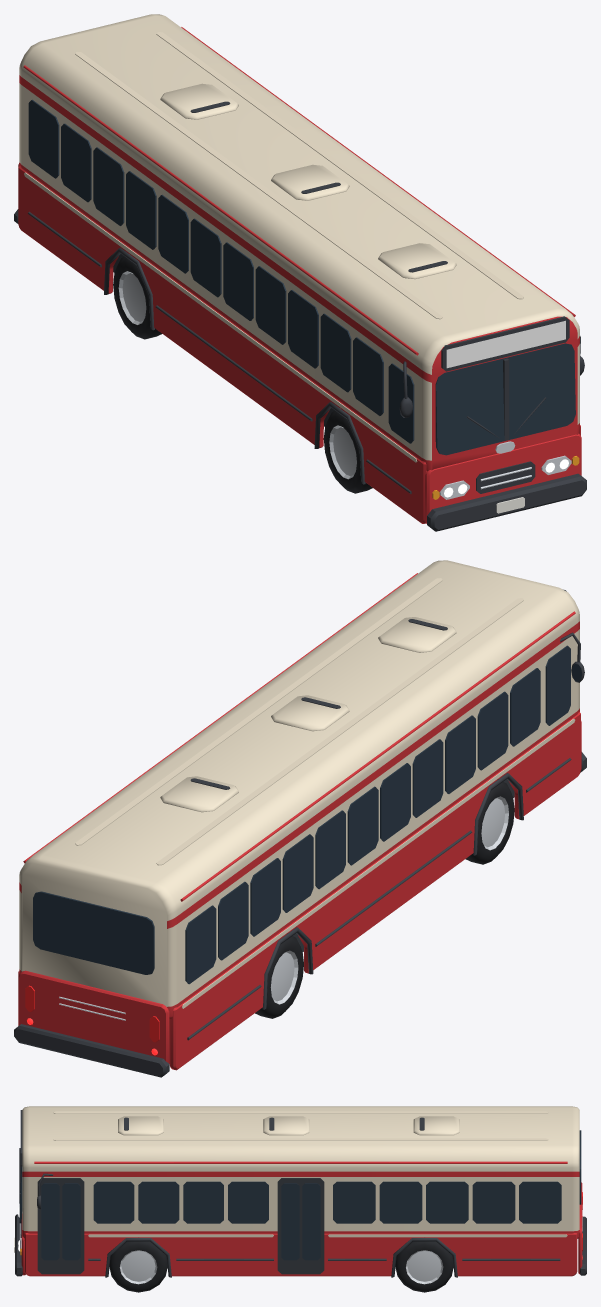
Rendered from veh_bus.glb.
3 views of the same model, one above another, from view 1: azimuth 30°, elevation 25°; view 2: azimuth 150°, elevation 25°; view 3: azimuth 270°, elevation 25° (orthographic). The views are drawn at different scales.
Visible parts, largest first — view 1: body, route_board, wheel_FR, wheel_RR; view 2: body, wheel_FR, wheel_RR; view 3: body, wheel_RL, wheel_FL.
Part boxes in pixels (x1,y1,x2,y2): body: (14,14,586,531); route_board: (446,320,565,368); wheel_FR: (323,411,372,493); wheel_RR: (113,256,161,339); body: (14,560,586,1077); wheel_FR: (465,782,514,864); wheel_RR: (255,936,303,1018); body: (14,1106,586,1277); wheel_RL: (395,1241,453,1292); wheel_FL: (109,1241,167,1292).
Size of the model in its own units: 2.9 by 3.21 by 11.5.
